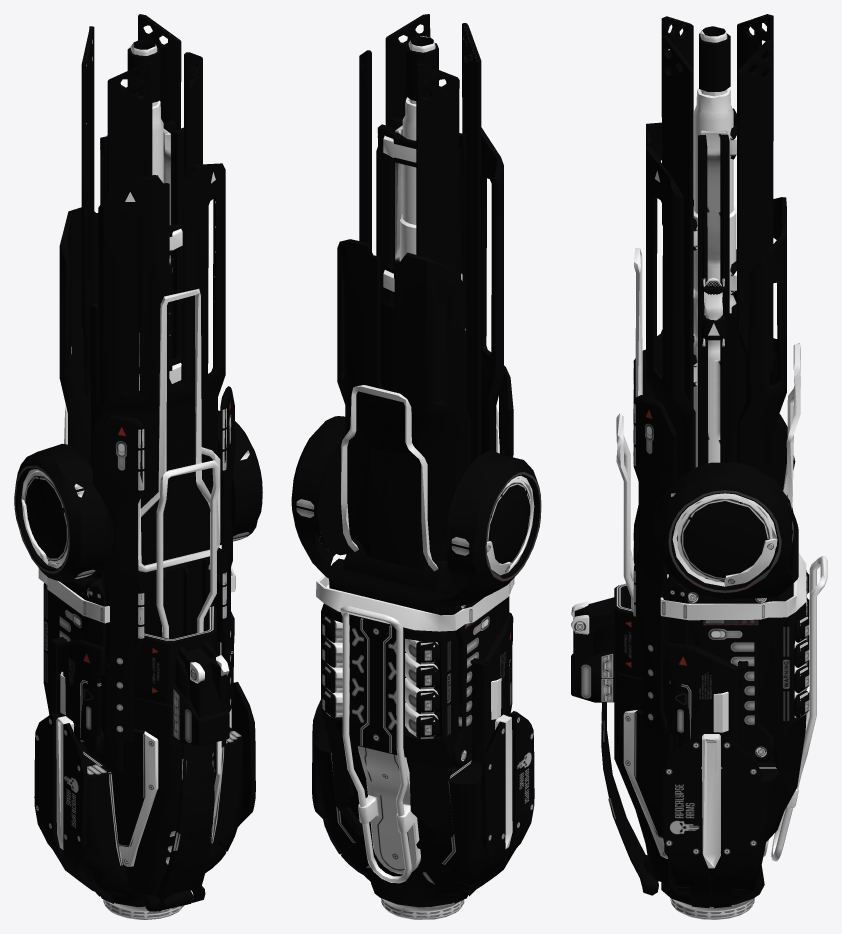
The model's file is predator-scattergun.glb.
3 renders of one model, left to right at view 1: azimuth 30°, elevation 25°; view 2: azimuth 150°, elevation 25°; view 3: azimuth 270°, elevation 25°, orthographic.
Visible parts, largest first — view 1: core; view 2: core; view 3: core.
Boxes of the visible parts, left/top/right/bottom form: core: left=14, top=14, right=262, bottom=919; core: left=291, top=14, right=541, bottom=919; core: left=571, top=14, right=827, bottom=919.
Bounding box in the file's own units: 0.7595 × 3.22 × 0.8552.
9 materials, 5 textured.
